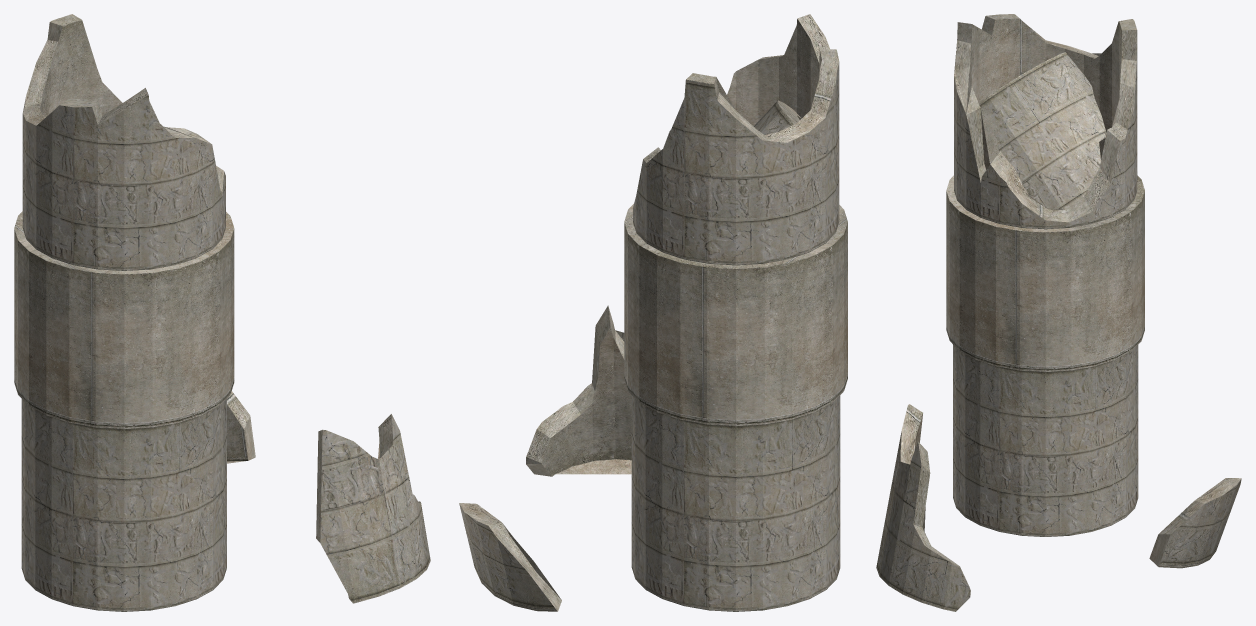
The model's file is poi_all_obelisk_s01_l0.fbx.
3 views of the same model, side by side, from view 1: azimuth 30°, elevation 25°; view 2: azimuth 150°, elevation 25°; view 3: azimuth 270°, elevation 25° (orthographic). The views are drawn at different scales.
Visible parts, largest first — view 1: mesh_node; view 2: mesh_node; view 3: mesh_node.
Part boxes in pixels (x1,y1,x2,y2): mesh_node: [14, 14, 430, 611]; mesh_node: [459, 14, 847, 611]; mesh_node: [876, 14, 1241, 611].
Bounding box in the file's own units: 23.23 × 33.77 × 23.67.
